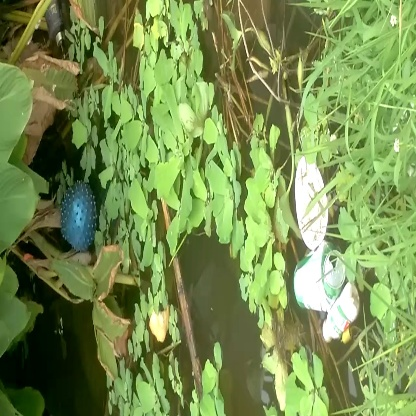ball: (52, 174, 113, 257)
bottle: (287, 245, 353, 312), (313, 285, 367, 344)
